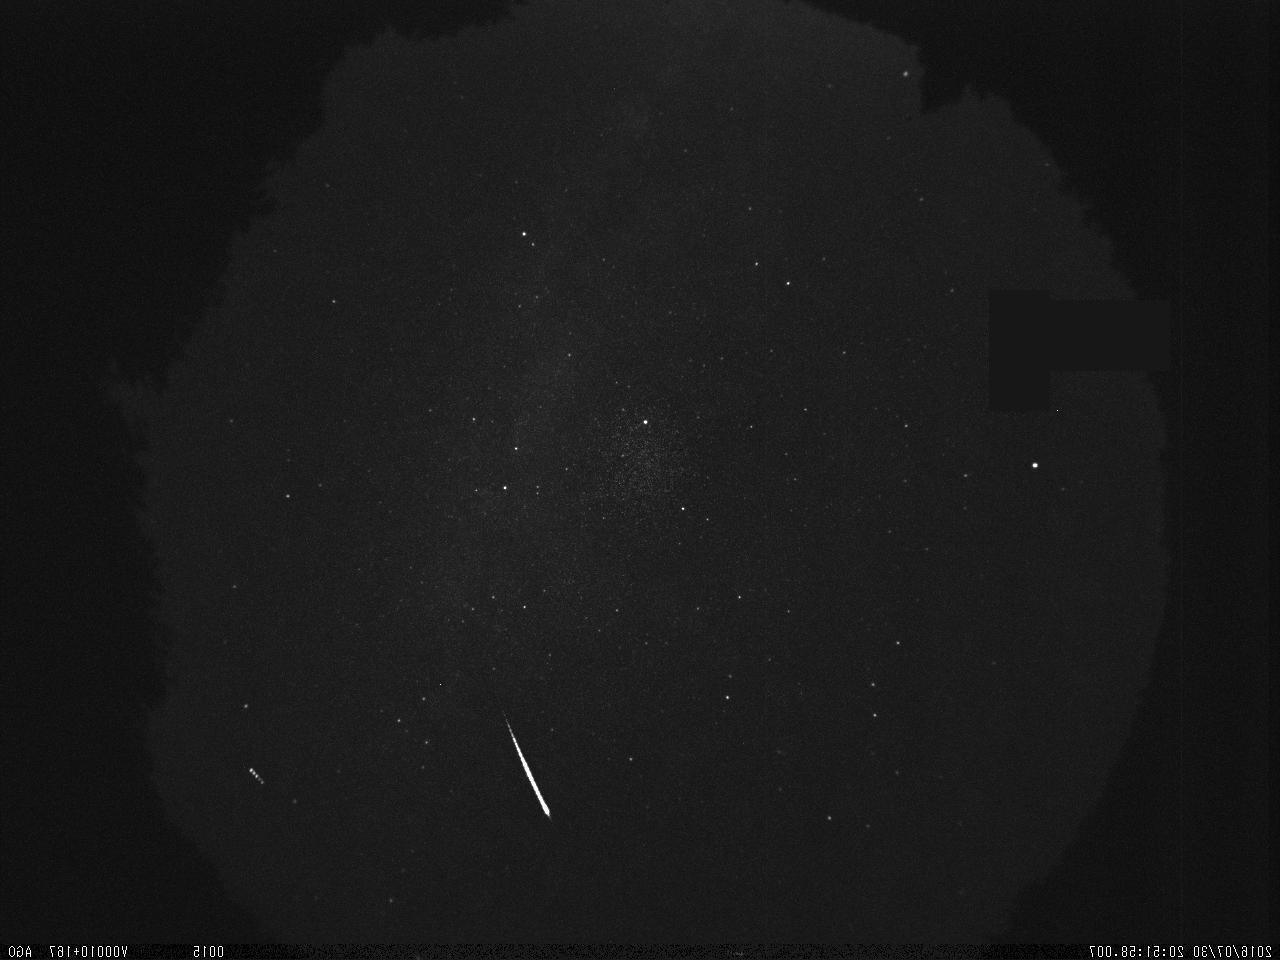meteor: (494, 697, 556, 823)
satelite: (245, 760, 270, 795)
